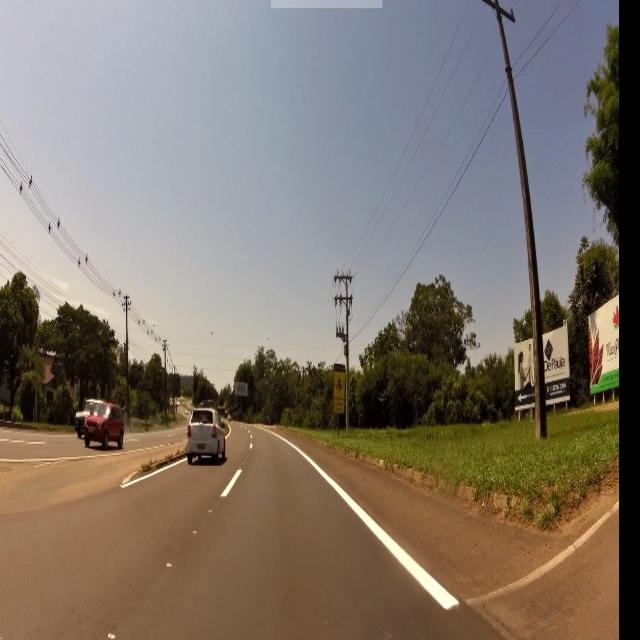A-32b: (336, 374, 344, 396)
